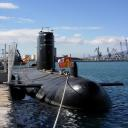submarine: (15, 25, 126, 118)
